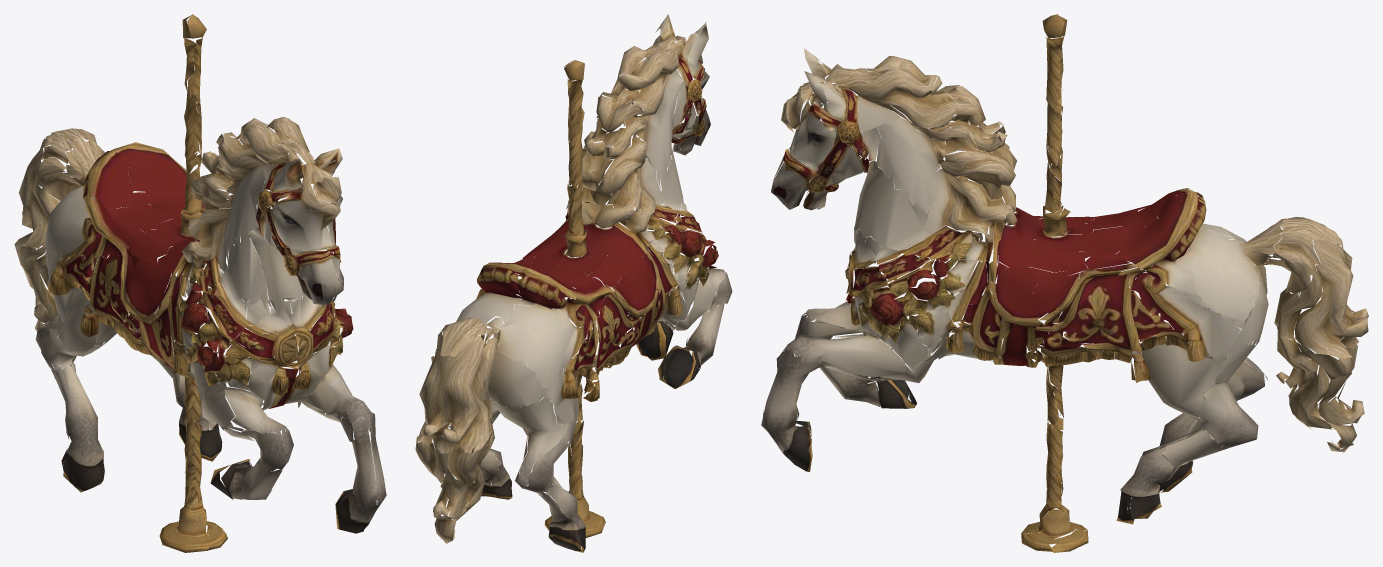
File: h_carousel_horse.glb
3 views of the same model, side by side, from view 1: azimuth 30°, elevation 25°; view 2: azimuth 150°, elevation 25°; view 3: azimuth 270°, elevation 25° (orthographic). The views are drawn at different scales.
Visible parts, largest first — view 1: tripo_node_2702032e-0284-419a-af09-f0744ad528bf; view 2: tripo_node_2702032e-0284-419a-af09-f0744ad528bf; view 3: tripo_node_2702032e-0284-419a-af09-f0744ad528bf.
Boxes of the visible parts, x1,y1,x2,y2 form: tripo_node_2702032e-0284-419a-af09-f0744ad528bf: (14,14,386,552); tripo_node_2702032e-0284-419a-af09-f0744ad528bf: (415,14,732,552); tripo_node_2702032e-0284-419a-af09-f0744ad528bf: (761,14,1368,552).
Bounding box in the file's own units: 0.2827 × 0.9329 × 0.9796.
1 material, 1 textured.
